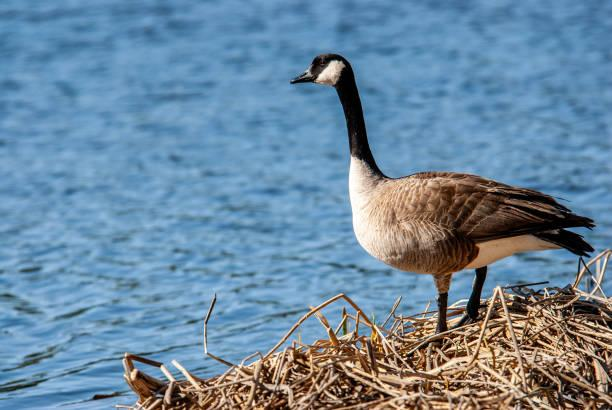Canadian-Goose: (284, 47, 594, 318)
